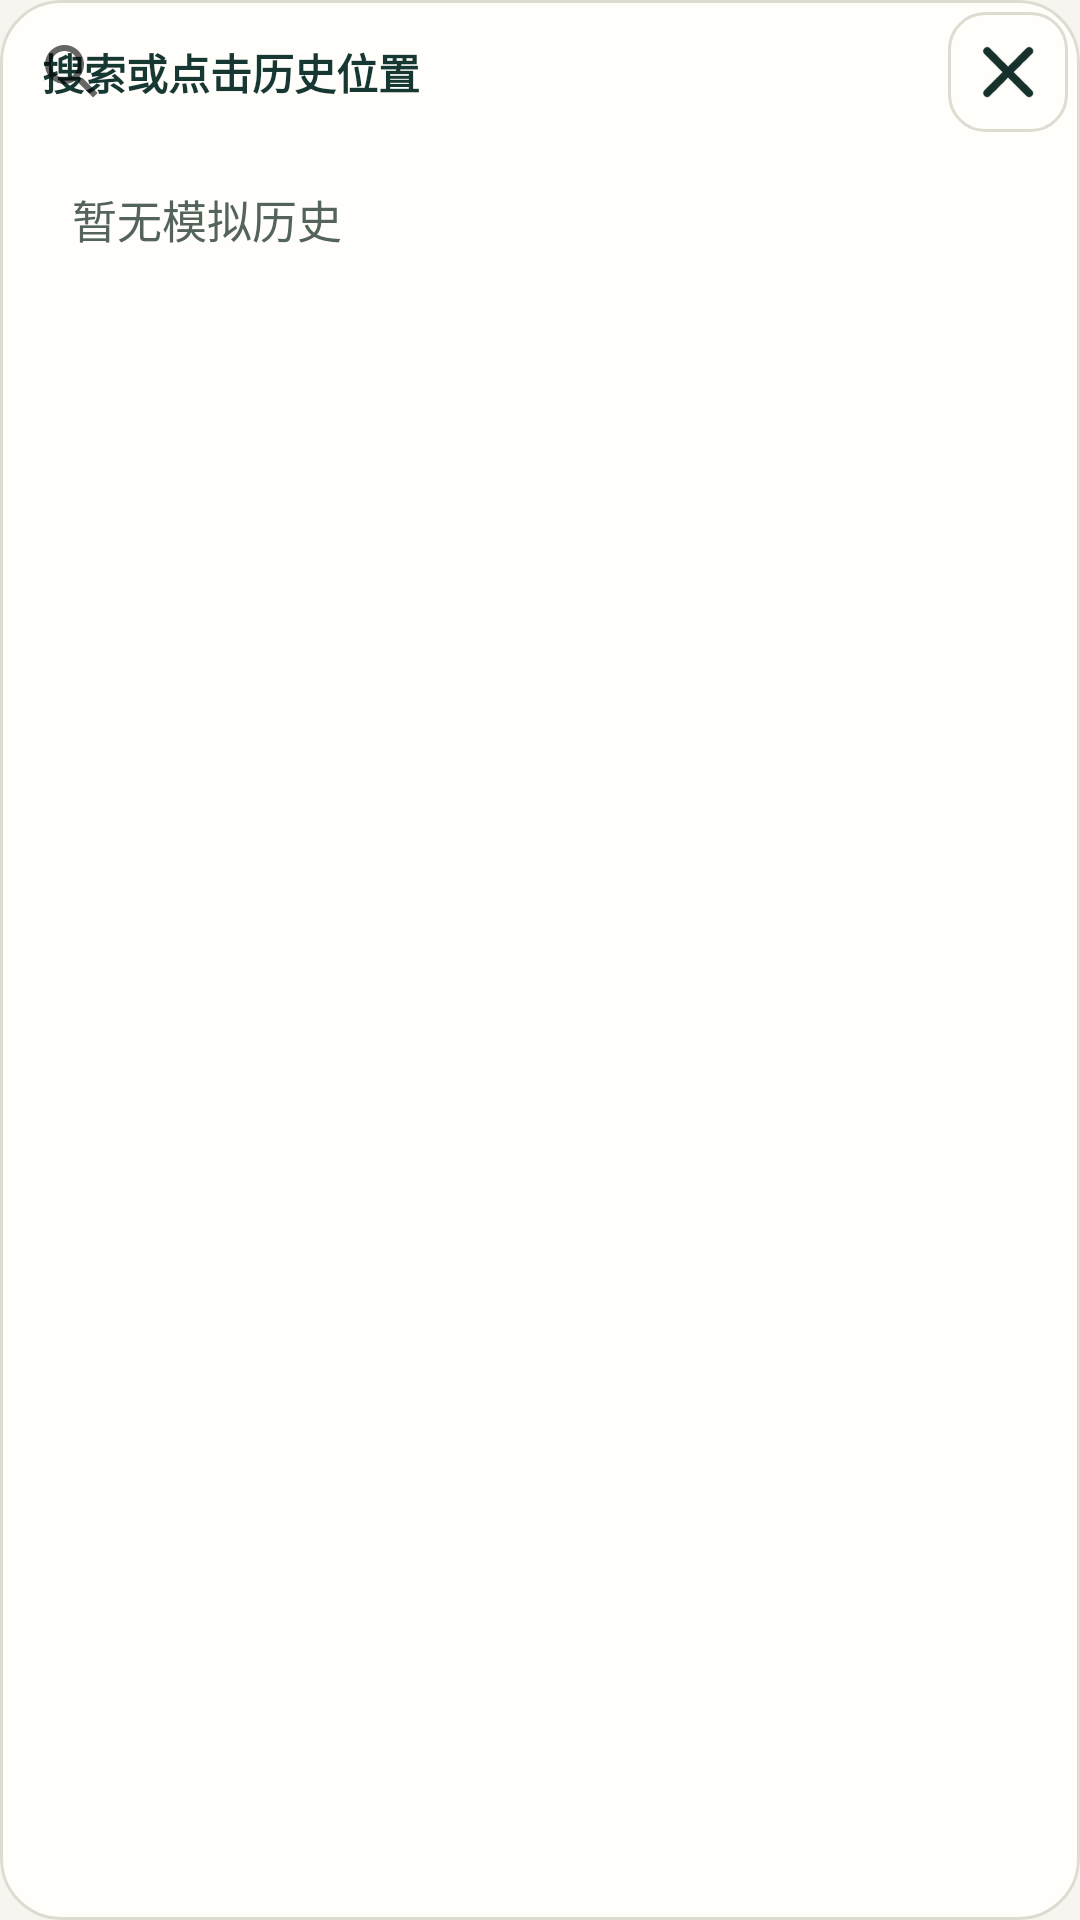

Icon click points for this 1080px x 1920px phone screenshot, format [x,y]:
关闭: [1008,72]
